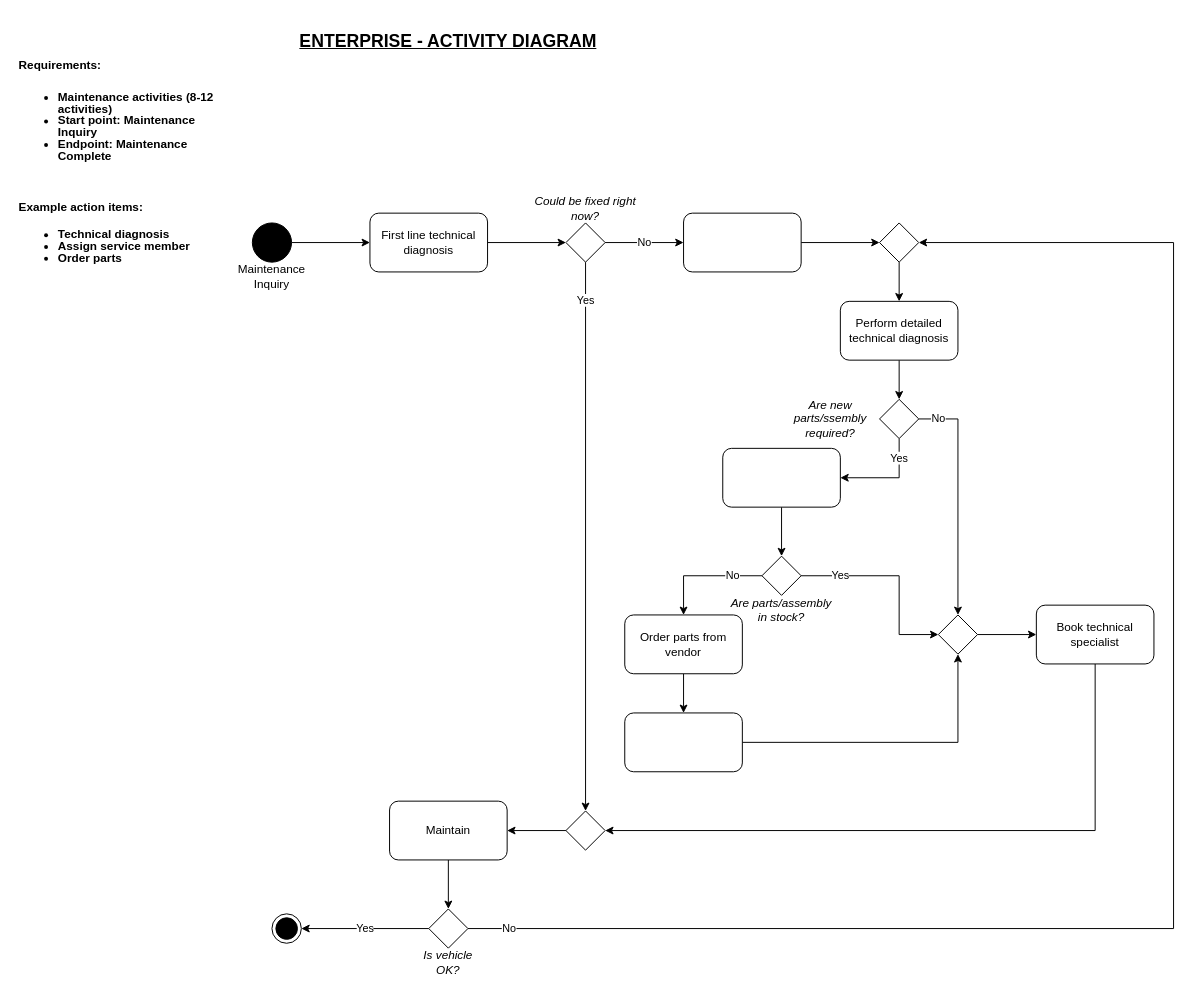
Image size: 1199x995. Some labels were removed from this diagram. The shapes that lost their labels are listed below. From the top down, each one's centre as x and y in pixels, then its label:
At point 742,242: "Assign service center/team".
At point 781,477: "Book required parts".
At point 683,742: "Put parts into stock".
